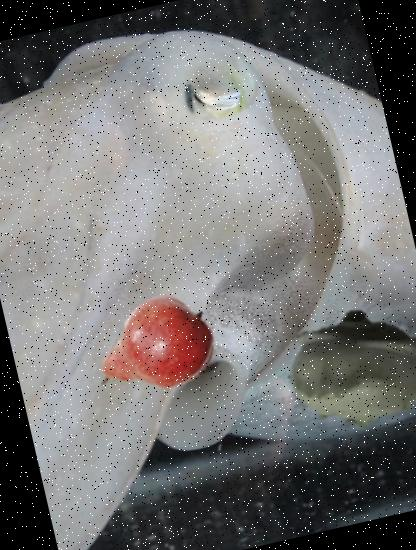Kohlrabi: (271, 283, 416, 455)
Pear: (77, 275, 229, 427)
